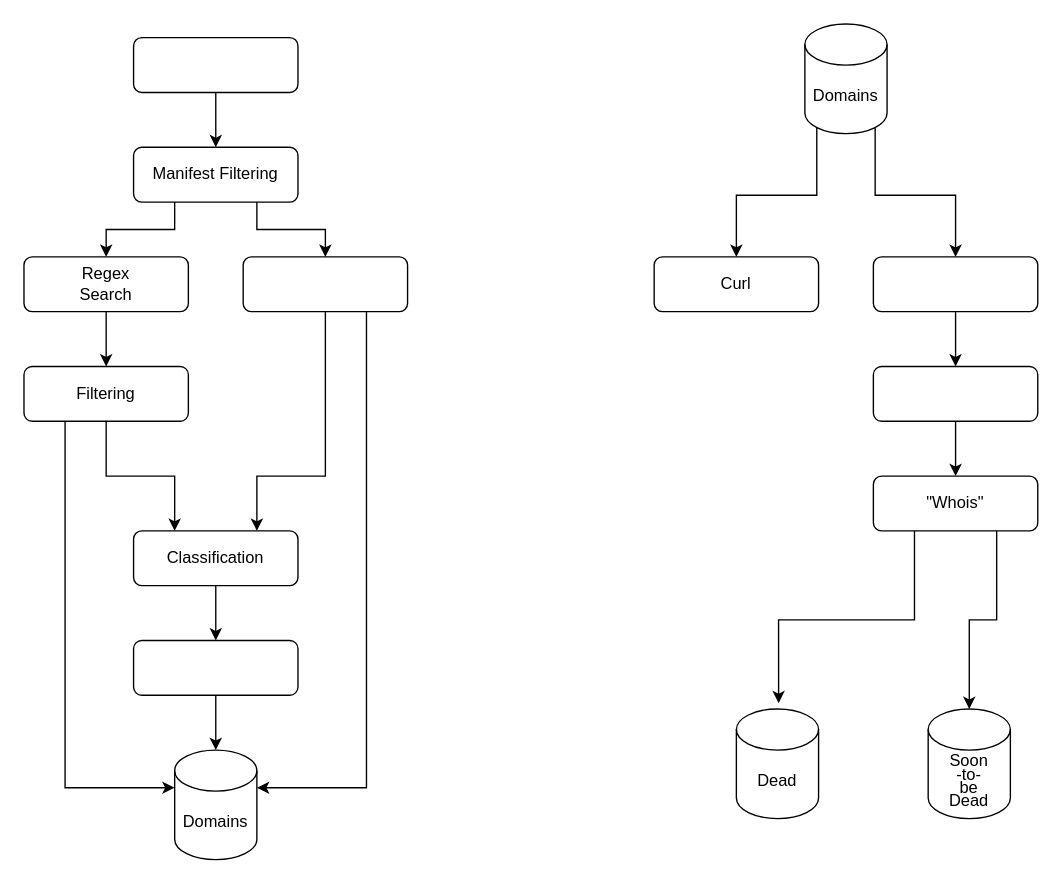
The diagram is 1062 pixels wide and 884 high, and some of its shapes have lost their labels. Each missing label, with the centre of its shape:
DNS: pixel 955 284
Dynamic Analysis: pixel 215 667
Extract Extension: pixel 215 64
Ping: pixel 955 393
Static Analysis: pixel 325 284
